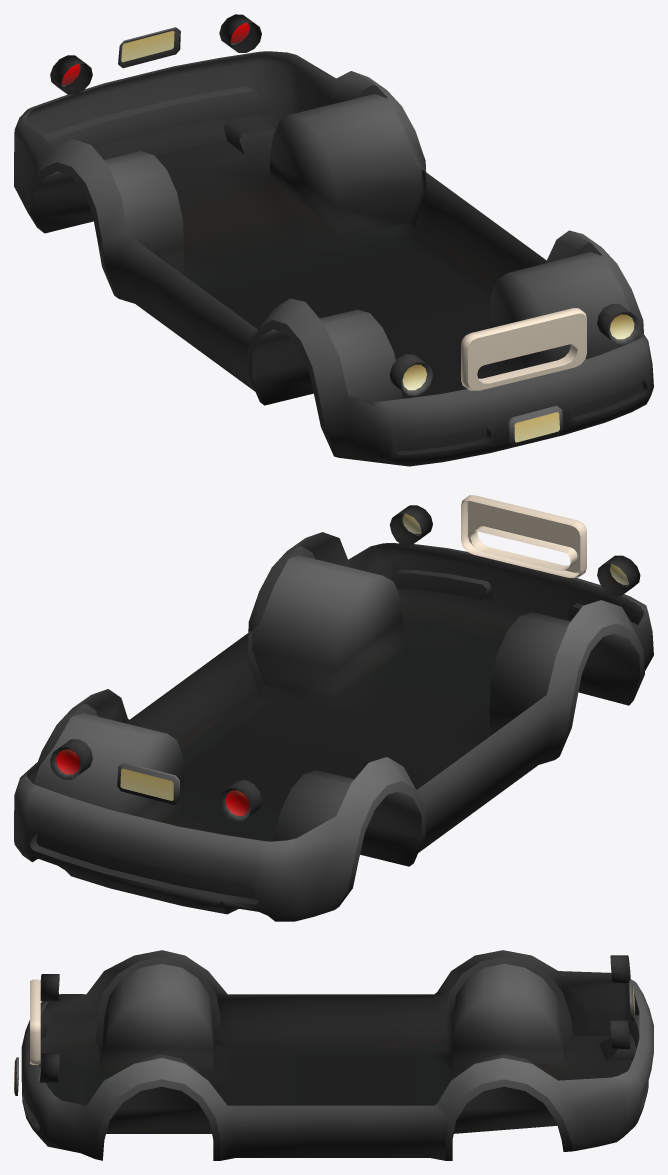
Rendered from car_body_Additional_part.fbx.
The picture shows the model from 3 angles, top to bottom: view 1: azimuth 30°, elevation 25°; view 2: azimuth 150°, elevation 25°; view 3: azimuth 270°, elevation 25°; orthographic projection. The views are drawn at different scales.
Parts seen in each view (by area): view 1: Car_body_Additional_part; view 2: Car_body_Additional_part; view 3: Car_body_Additional_part.
Part boxes in pixels (x1,y1,x2,y2): Car_body_Additional_part: (14, 14, 653, 466); Car_body_Additional_part: (14, 495, 653, 921); Car_body_Additional_part: (14, 950, 653, 1160).
Size of the model in its own units: 59.36 by 25.15 by 128.
